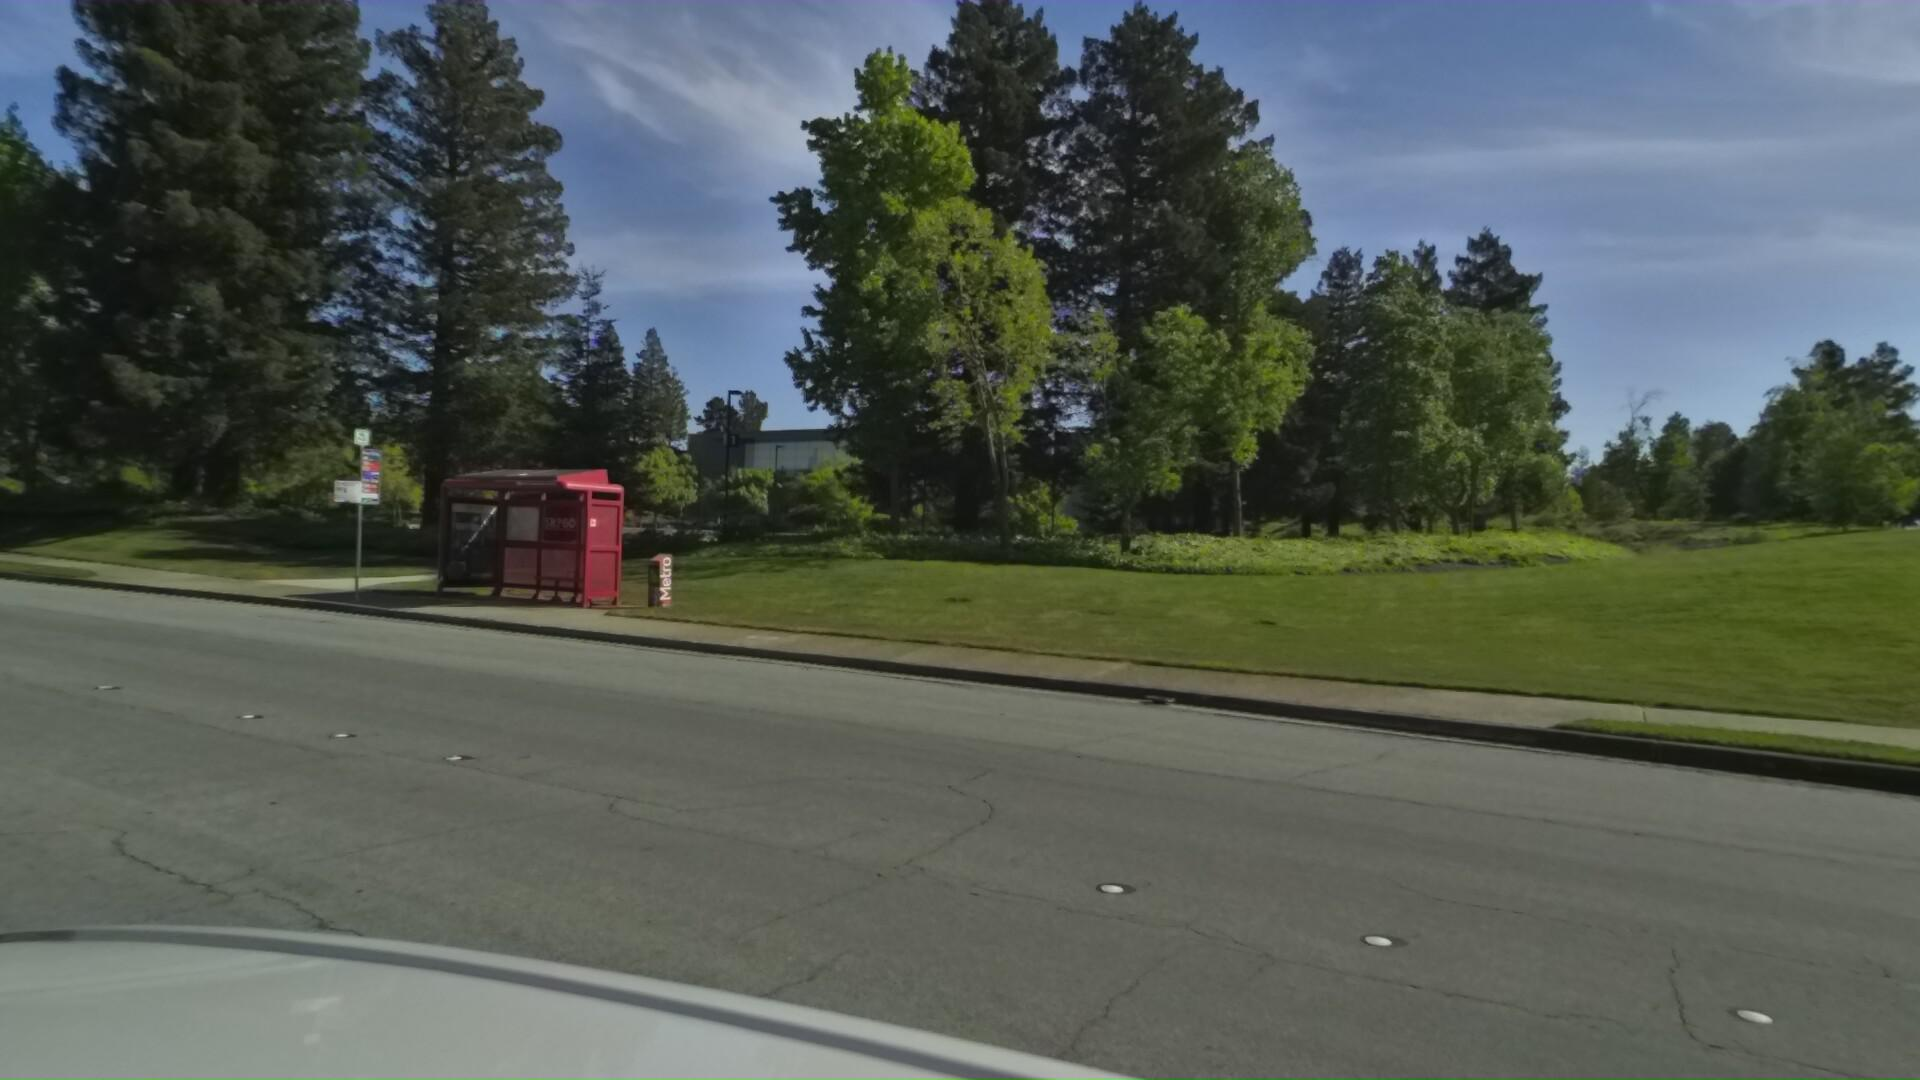car: (465, 485, 642, 545)
